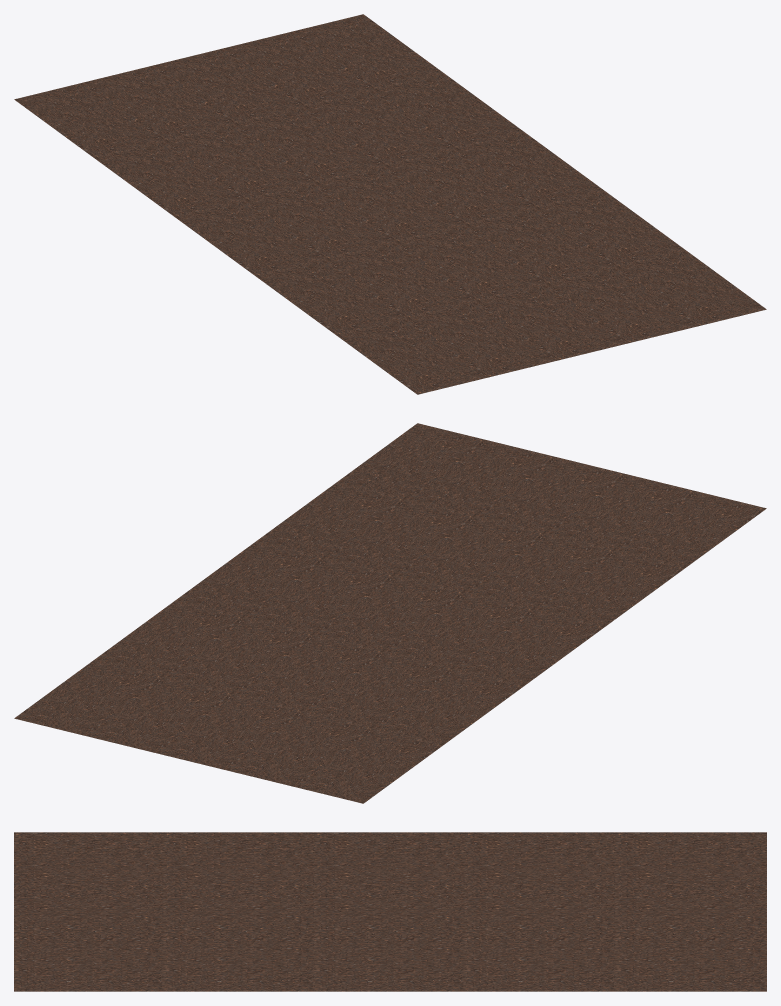
Rendered from corredor_panteon.obj.
3 renders of one model, top to bottom at view 1: azimuth 30°, elevation 25°; view 2: azimuth 150°, elevation 25°; view 3: azimuth 270°, elevation 25°, orthographic. The views are drawn at different scales.
Parts seen in each view (by area): view 1: Plano; view 2: Plano; view 3: Plano.
Boxes of the visible parts, bbox=[...] form: Plano: bbox=[14, 14, 766, 394]; Plano: bbox=[14, 423, 766, 803]; Plano: bbox=[14, 832, 766, 991].
Bounding box in the file's own units: 5 × 0 × 10.
